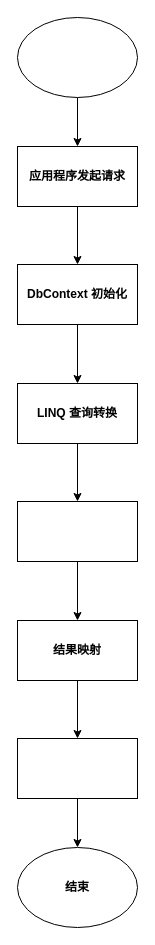
The diagram is 155 pixels wide and 945 high, and some of its shapes have lost their labels. Here are the shapes that lost their labels. From the top down, the centre of each, then its label:
the point at 77,57: 开始
the point at 77,531: SQL 执行
the point at 77,768: 事务管理与保存数据
